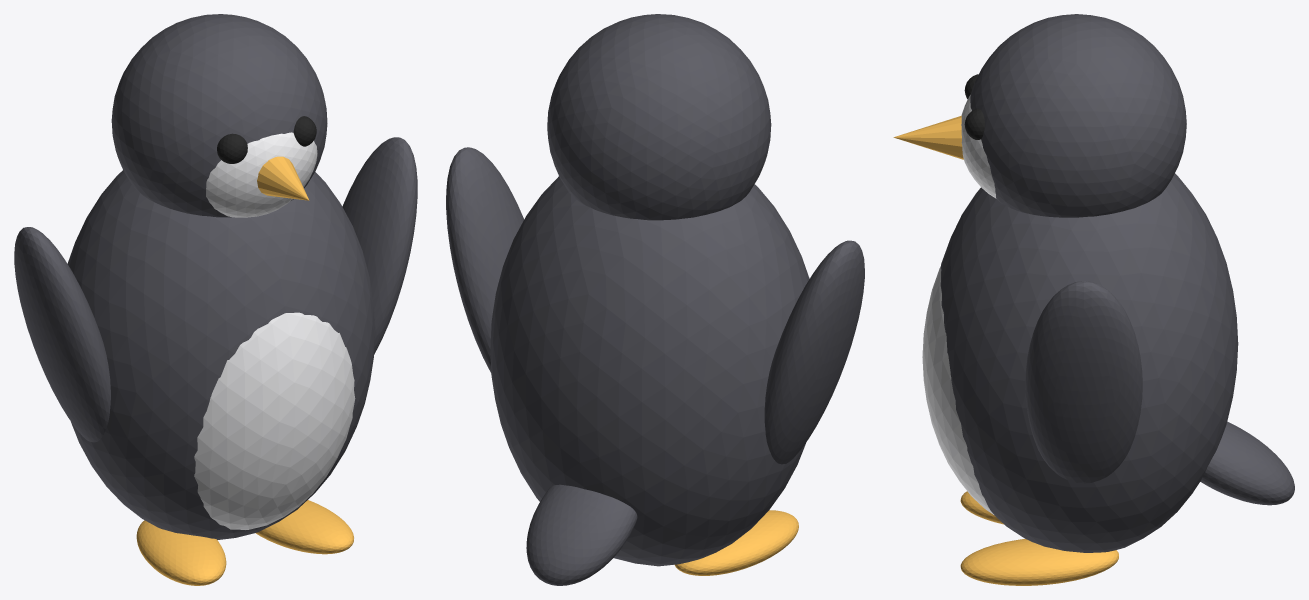
The model's file is penguin.glb.
3 views of the same model, side by side, from view 1: azimuth 30°, elevation 25°; view 2: azimuth 150°, elevation 25°; view 3: azimuth 270°, elevation 25° (orthographic). The views are drawn at different scales.
Parts seen in each view (by area): view 1: body, head, belly, flipper_l, flipper_r, face, foot_l, foot_r, beak, eye_l, eye_r; view 2: body, head, flipper_l, flipper_r, tail, foot_l; view 3: body, head, flipper_r, foot_r, belly, tail, beak, face.
Boxes of the visible parts, <box> form: body: <box>67,170,374,539</box>; head: <box>111,14,327,217</box>; belly: <box>194,312,355,529</box>; flipper_l: <box>14,227,110,442</box>; flipper_r: <box>342,137,417,354</box>; face: <box>206,132,317,217</box>; foot_l: <box>136,520,226,585</box>; foot_r: <box>255,500,353,554</box>; beak: <box>257,156,309,200</box>; eye_l: <box>217,133,247,163</box>; eye_r: <box>293,116,316,146</box>; body: <box>490,176,809,566</box>; head: <box>547,14,771,220</box>; flipper_l: <box>764,240,864,464</box>; flipper_r: <box>446,147,523,372</box>; tail: <box>526,484,637,585</box>; foot_l: <box>674,510,798,575</box>; body: <box>940,173,1238,552</box>; head: <box>970,14,1186,217</box>; flipper_r: <box>1025,281,1142,483</box>; foot_r: <box>960,539,1118,585</box>; belly: <box>922,266,993,514</box>; tail: <box>1200,421,1294,505</box>; beak: <box>893,115,963,159</box>; face: <box>961,94,996,198</box>.
Size of the model in its own units: 1.24 by 1.58 by 1.09.
